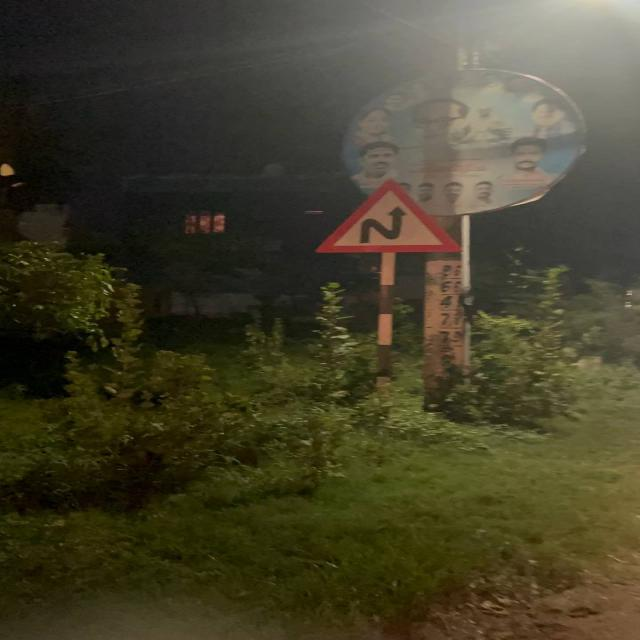Doublecurve_First to right: (339, 184, 451, 255)
